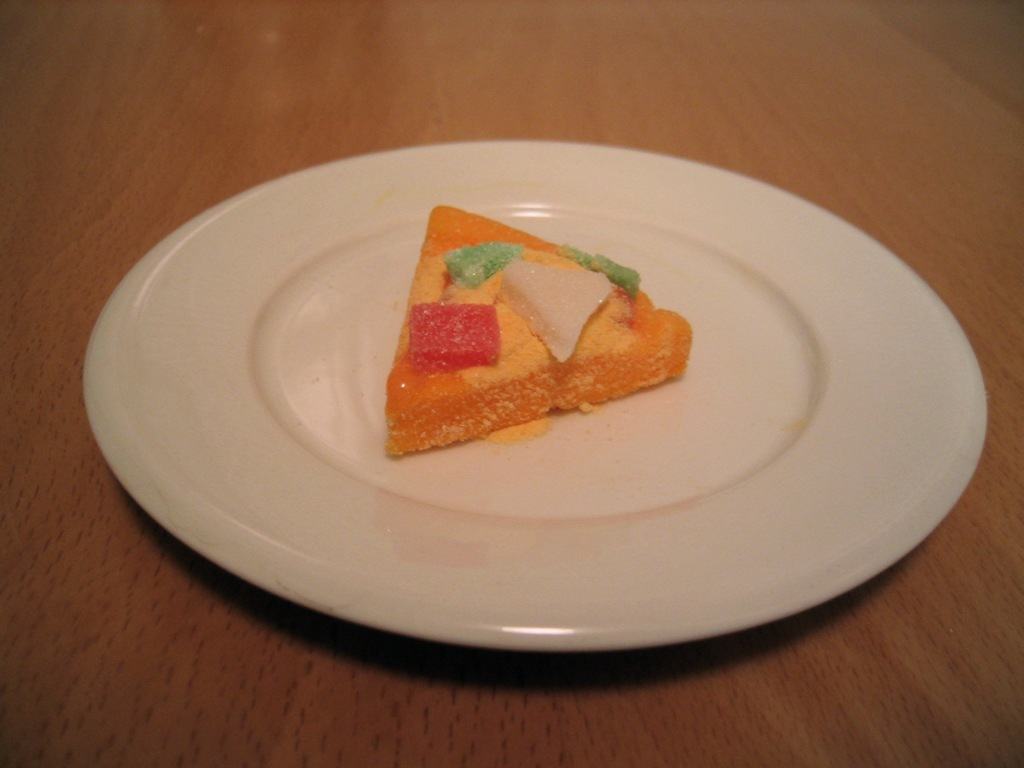plate: (81, 129, 979, 662)
